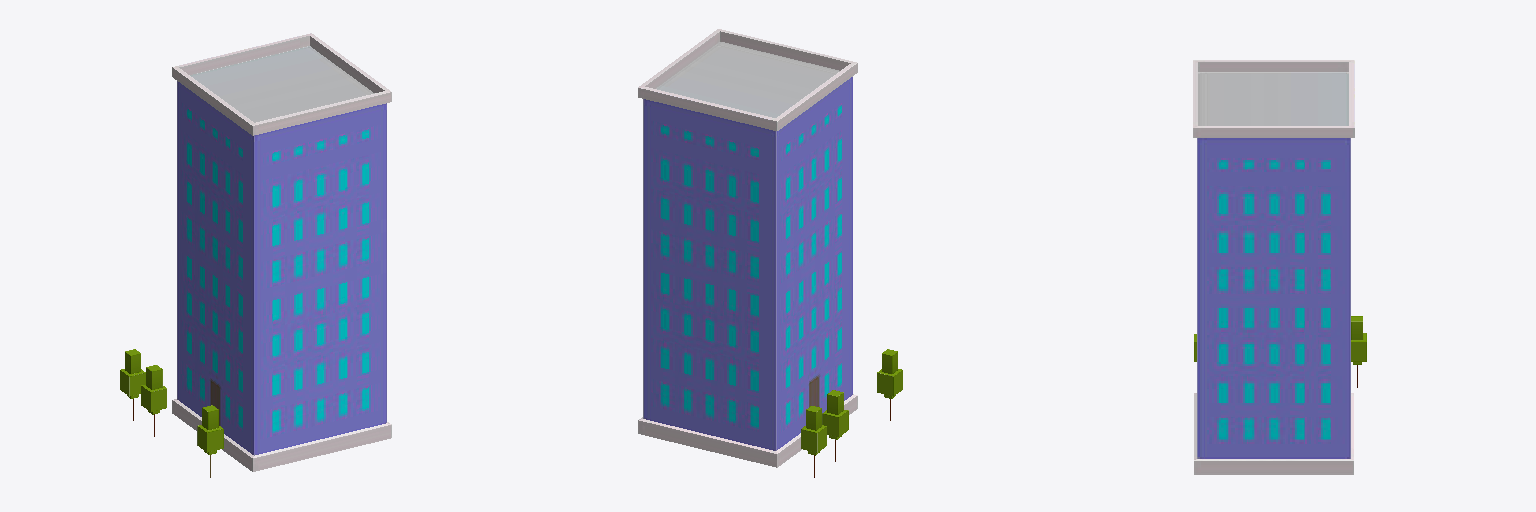
3 renders of one model, left to right at view 1: azimuth 30°, elevation 25°; view 2: azimuth 150°, elevation 25°; view 3: azimuth 270°, elevation 25°, orthographic.
Parts seen in each view (by area): view 1: living_purple_3lvl_Mesh.134, Tree_2_3_61.029_Mesh.274, Tree_2_3_61.028_Mesh.273, Tree_2_3_61.027_Mesh.272; view 2: living_purple_3lvl_Mesh.134, Tree_2_3_61.029_Mesh.274, Tree_2_3_61.027_Mesh.272, Tree_2_3_61.028_Mesh.273; view 3: living_purple_3lvl_Mesh.134, Tree_2_3_61.027_Mesh.272.
Part boxes in pixels (left/top/right/bottom): living_purple_3lvl_Mesh.134: left=172, top=33, right=391, bottom=471; Tree_2_3_61.029_Mesh.274: left=197, top=405, right=223, bottom=477; Tree_2_3_61.028_Mesh.273: left=141, top=365, right=166, bottom=436; Tree_2_3_61.027_Mesh.272: left=120, top=349, right=145, bottom=420; living_purple_3lvl_Mesh.134: left=638, top=29, right=857, bottom=467; Tree_2_3_61.029_Mesh.274: left=877, top=349, right=902, bottom=420; Tree_2_3_61.027_Mesh.272: left=801, top=406, right=826, bottom=477; Tree_2_3_61.028_Mesh.273: left=822, top=390, right=848, bottom=461; living_purple_3lvl_Mesh.134: left=1193, top=60, right=1354, bottom=474; Tree_2_3_61.027_Mesh.272: left=1351, top=316, right=1366, bottom=387.
Size of the model in its own units: 1.77 by 3.15 by 1.43.
Materials: 2 (2 with a texture image).